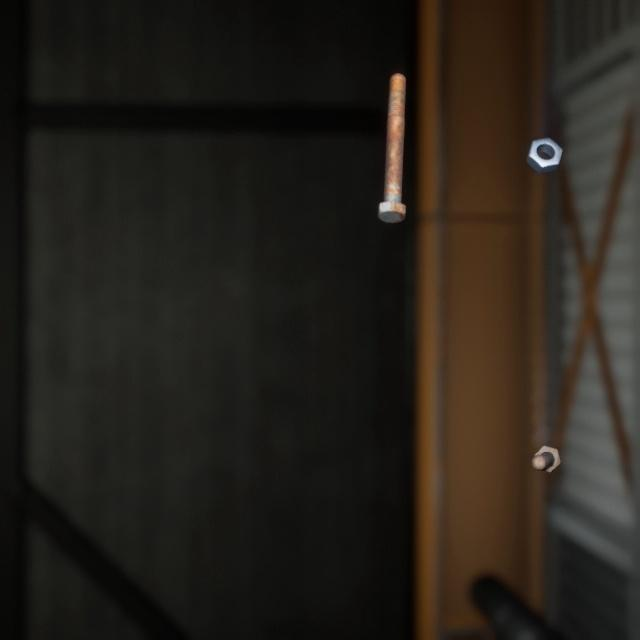bolt: (373, 57, 410, 214), (527, 420, 565, 457)
nut: (521, 120, 566, 164)
